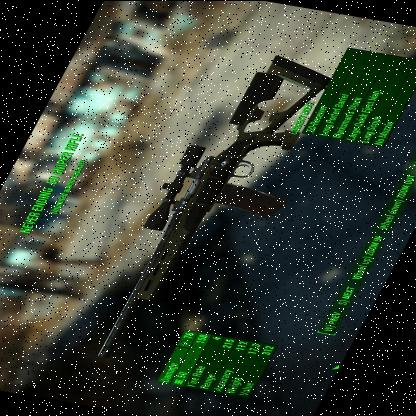rifle: (79, 49, 339, 374)
